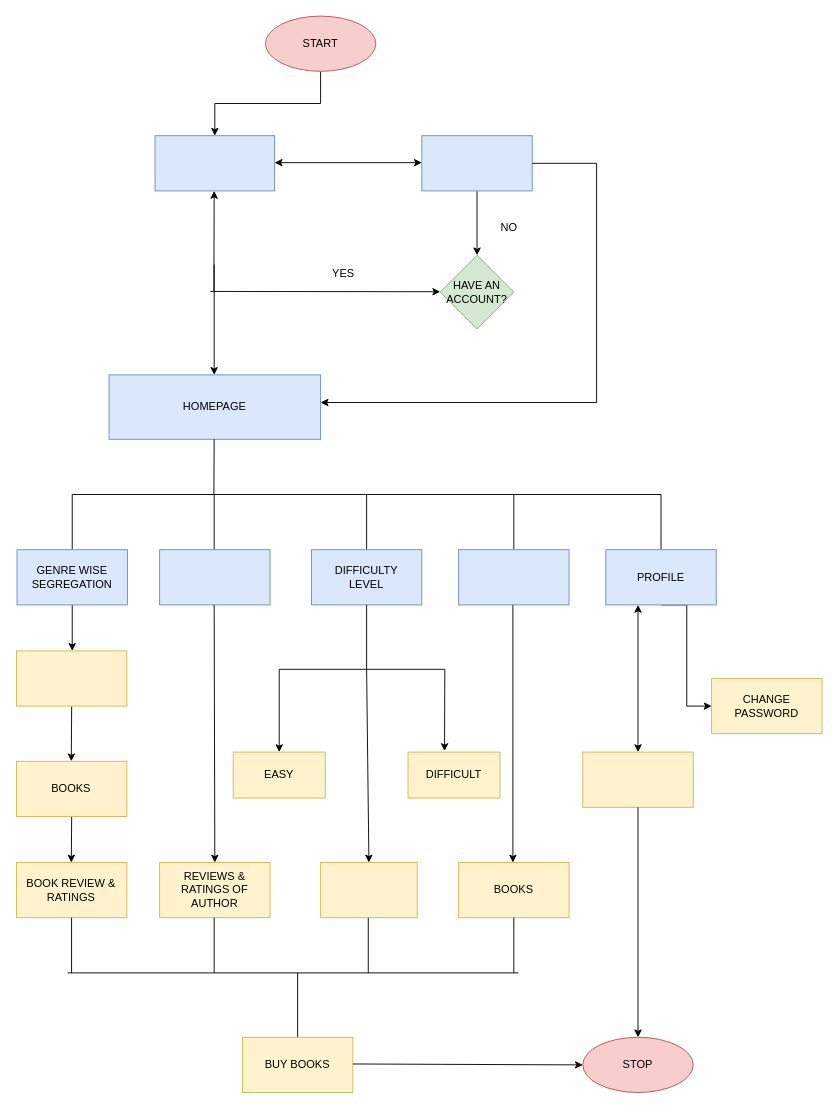
Some shapes in this 838 by 1109 pixel diagram are drawn without their labels. The centre of each missing label's shape, as x and y in pixels:
"AUTHOR WISE SEGREGATION" goes at (214,577).
"BOOKMARKS" goes at (513,577).
"GENRES" goes at (71,678).
"LOG OUT" goes at (637,779).
"LOGIN" goes at (214,163).
"MEDIUM" goes at (368,890).
"SIGNUP" goes at (476,163).
